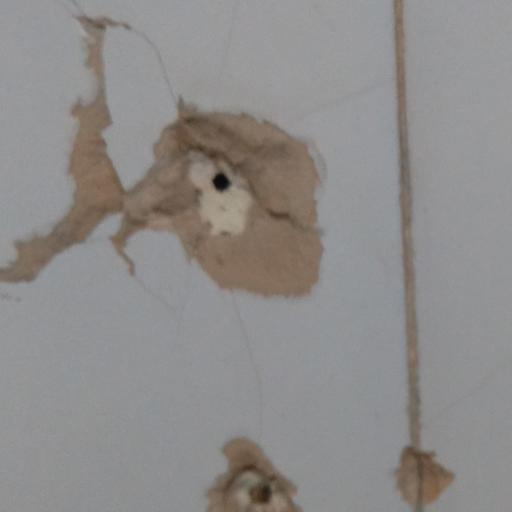spalling: (0, 0, 337, 314), (191, 425, 329, 512), (384, 432, 471, 512)
